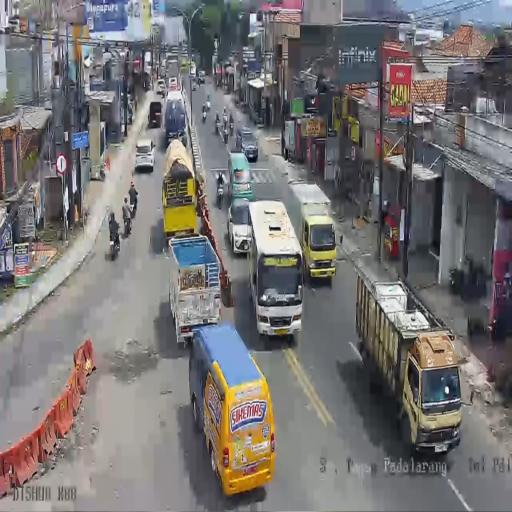car: (188, 323, 275, 494), (228, 198, 252, 254), (228, 151, 251, 203), (236, 124, 258, 160), (134, 140, 156, 172), (157, 78, 166, 95), (198, 70, 204, 85)
motorcycle: (109, 224, 121, 259), (123, 205, 134, 236), (223, 127, 228, 144), (229, 119, 234, 135), (202, 107, 207, 123)
truck: (352, 267, 461, 452), (286, 180, 334, 283), (164, 84, 188, 149), (165, 56, 180, 84), (190, 64, 196, 80)
